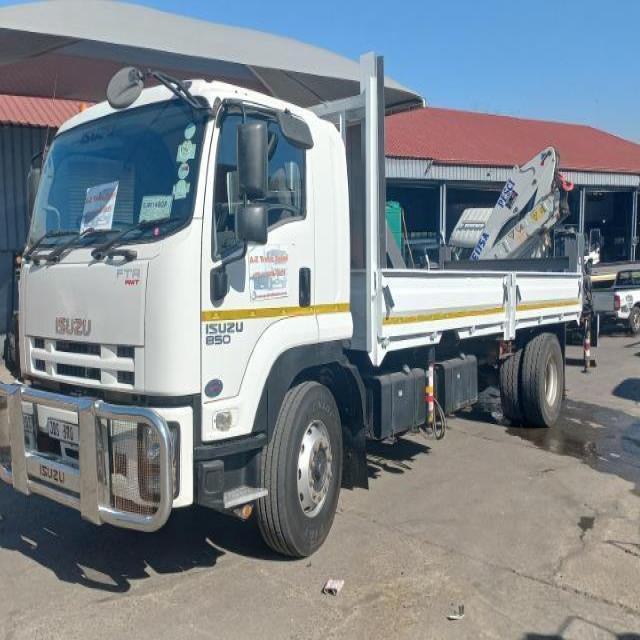truck: (1, 34, 581, 561)
